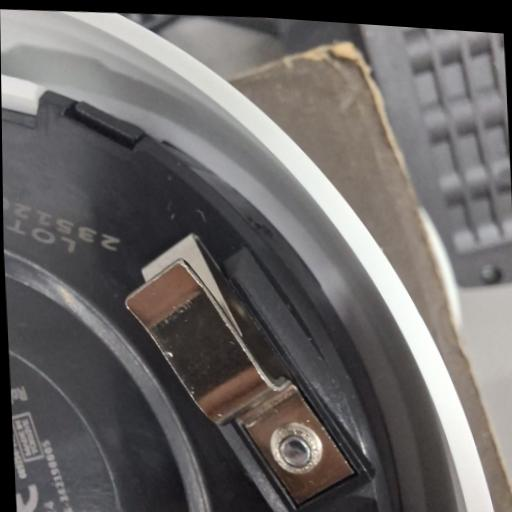yayli: (116, 232, 355, 512)
